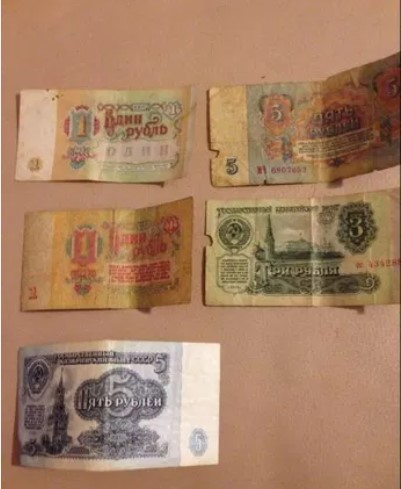cash: (17, 339, 221, 471), (208, 51, 401, 187), (205, 188, 401, 306), (22, 196, 192, 311), (18, 88, 189, 180)
